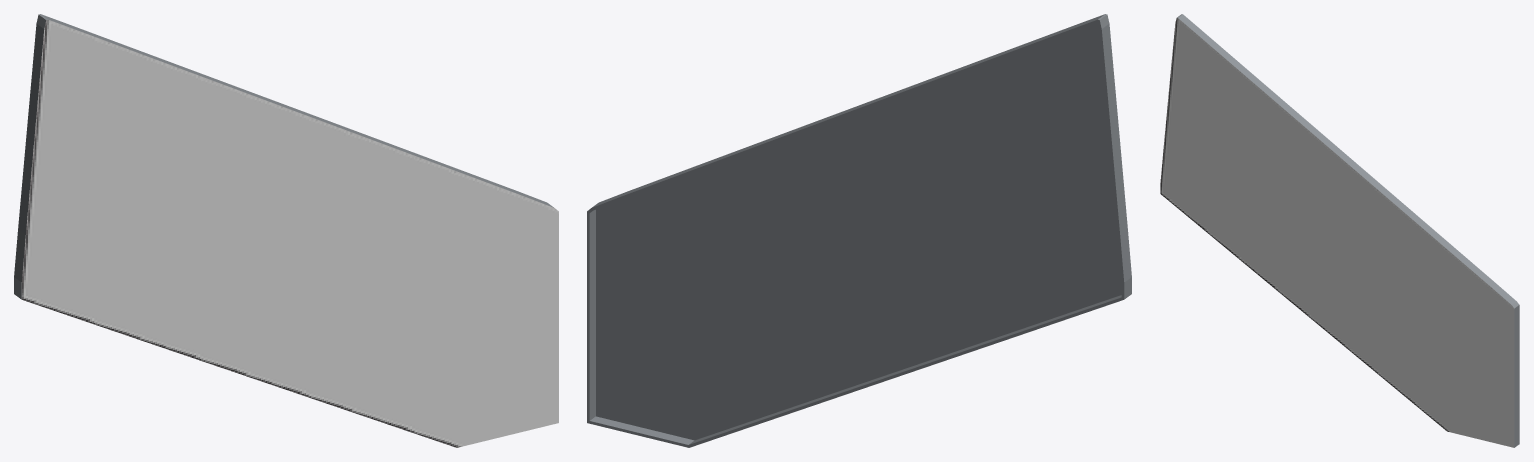
3 renders of one model, left to right at view 1: azimuth 30°, elevation 25°; view 2: azimuth 150°, elevation 25°; view 3: azimuth 330°, elevation 25°, orthographic. The views are drawn at different scales.
Parts seen in each view (by area): view 1: cat_e643e6a2abdc2edc; view 2: cat_e643e6a2abdc2edc; view 3: cat_e643e6a2abdc2edc.
Boxes of the visible parts, left/top/right/bottom form: cat_e643e6a2abdc2edc: left=14, top=14, right=558, bottom=447; cat_e643e6a2abdc2edc: left=587, top=14, right=1131, bottom=447; cat_e643e6a2abdc2edc: left=1160, top=14, right=1519, bottom=447.
Bounding box in the file's own units: 0.6 × 0.015 × 0.5635.
Materials: 2 (1 with a texture image).
